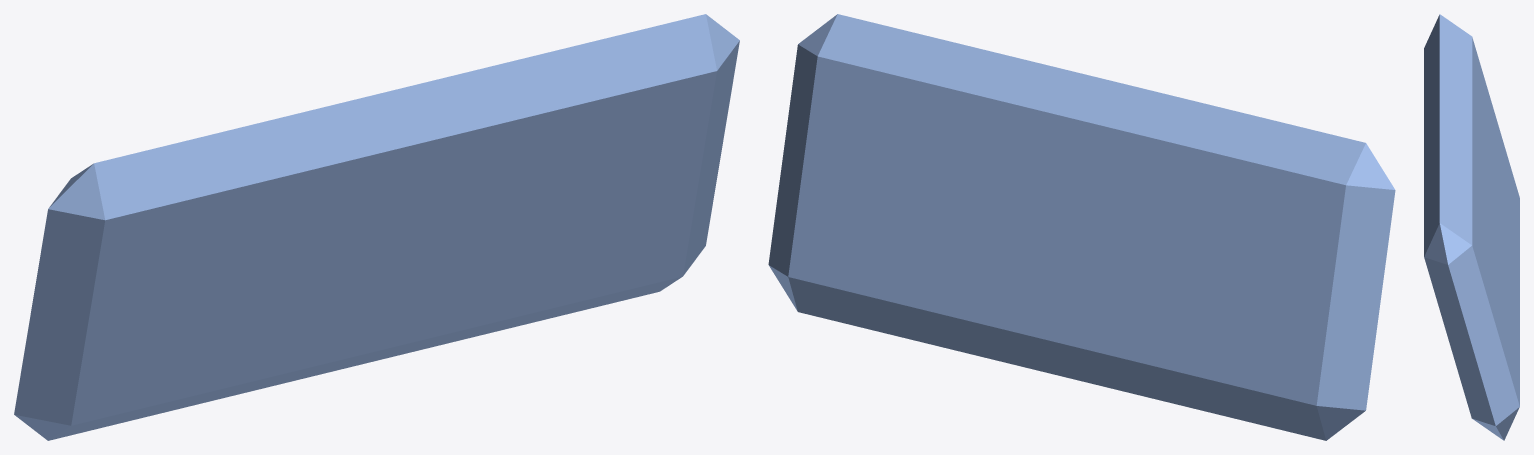
The model's file is pillow-blue-long.glb.
The picture shows the model from 3 angles, left to right: view 1: azimuth 30°, elevation 25°; view 2: azimuth 150°, elevation 25°; view 3: azimuth 270°, elevation 25°; orthographic projection. The views are drawn at different scales.
Parts seen in each view (by area): view 1: Mesh0; view 2: Mesh0; view 3: Mesh0.
Part boxes in pixels (x1=…): Mesh0: x1=14, y1=14, x2=739, y2=440; Mesh0: x1=768, y1=14, x2=1395, y2=440; Mesh0: x1=1424, y1=14, x2=1519, y2=440.
Size of the model in its own units: 0.5166 by 0.2222 by 0.0885.
